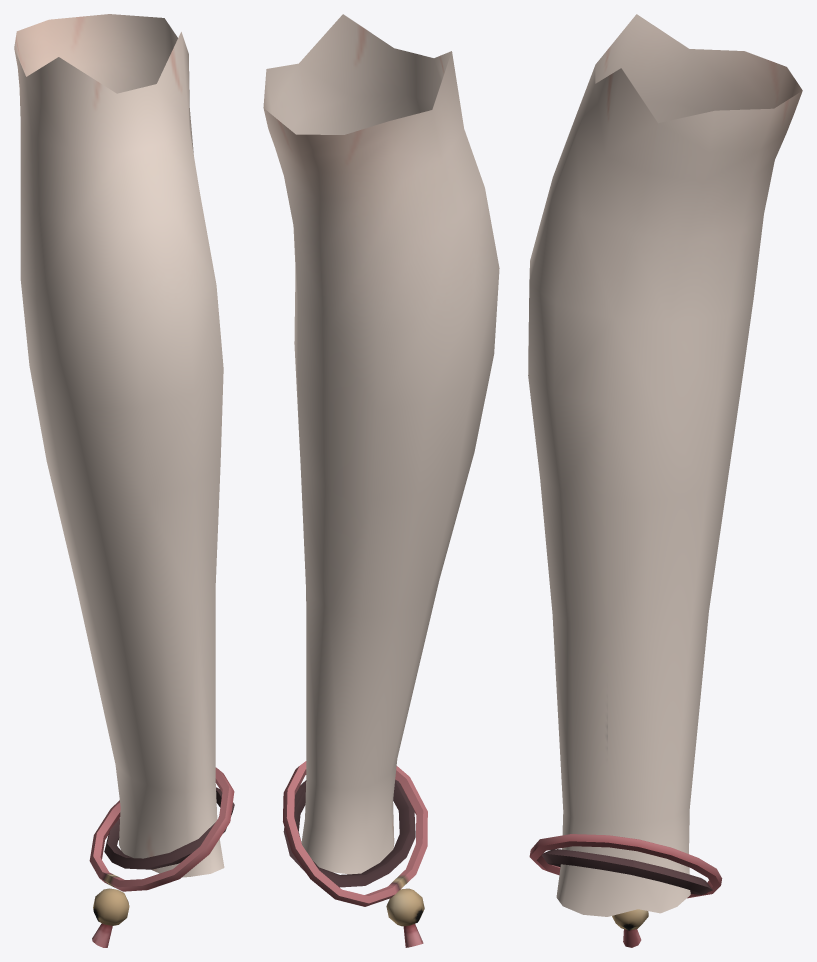
File: tibia_izq_yae.obj
3 views of the same model, side by side, from view 1: azimuth 30°, elevation 25°; view 2: azimuth 150°, elevation 25°; view 3: azimuth 270°, elevation 25° (orthographic).
Parts seen in each view (by area): view 1: 左ひざD, 肌.007_Материал.020, 肌.007_Material.002, 左足D; view 2: 左ひざD, 肌.007_Material.002, 肌.007_Материал.020, 左足D; view 3: 左ひざD, 肌.007_Материал.020, 肌.007_Material.002, 左足D.
Boxes of the visible parts, left/top/right/bottom form: 左ひざD: left=14, top=14, right=223, bottom=792; 肌.007_Материал.020: left=16, top=31, right=224, bottom=877; 肌.007_Material.002: left=89, top=767, right=234, bottom=947; 左足D: left=14, top=14, right=165, bottom=55; 左ひざD: left=263, top=14, right=499, bottom=789; 肌.007_Material.002: left=283, top=761, right=427, bottom=947; 肌.007_Материал.020: left=301, top=135, right=397, bottom=874; 左足D: left=263, top=70, right=388, bottom=155; 左ひざD: left=528, top=14, right=793, bottom=823; 肌.007_Материал.020: left=556, top=67, right=791, bottom=916; 肌.007_Material.002: left=529, top=834, right=722, bottom=947; 左足D: left=712, top=51, right=802, bottom=133.
Size of the model in its own units: 0.0329 by 0.1621 by 0.0441.
